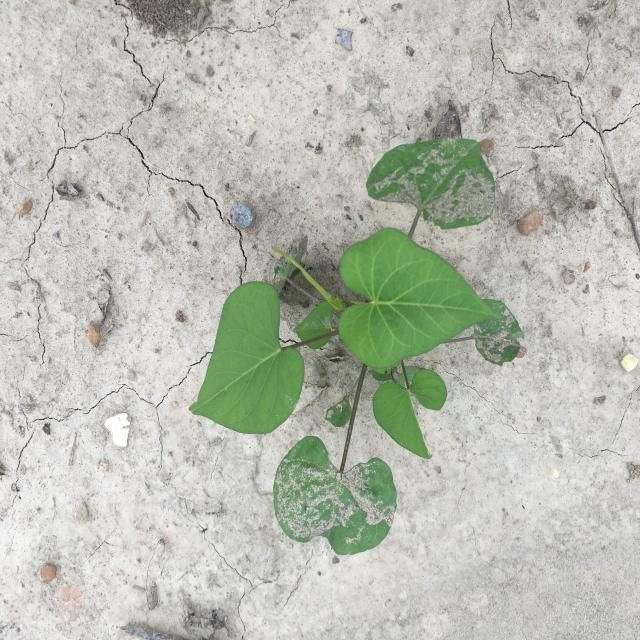MorningGlory: (189, 138, 523, 556)
